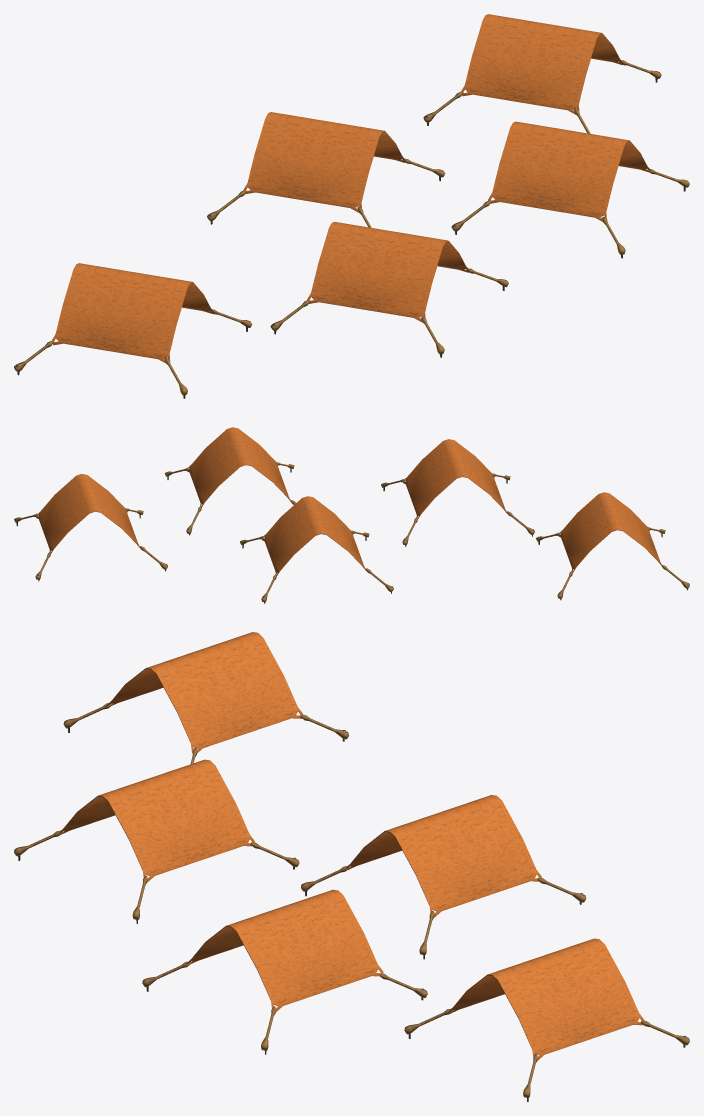
File: Tarps_Orange.obj
3 renders of one model, top to bottom at view 1: azimuth 30°, elevation 25°; view 2: azimuth 150°, elevation 25°; view 3: azimuth 270°, elevation 25°, orthographic. The views are drawn at different scales.
Visible parts, largest first — view 1: Tarp_Tan.002_Material.208, Tarp_Tan.003_Material.208, Tarp_Tan_Material.208, Tarp_Tan.001_Material.208, Tarp_Tan.004_Material.208, Tent_Stakes.002_Material.148, Tent_Stakes.003_Material.148, Tent_Stakes.004_Material.148; view 2: Tarp_Tan.002_Material.208, Tarp_Tan.004_Material.208, Tarp_Tan.001_Material.208, Tarp_Tan.003_Material.208, Tarp_Tan_Material.208, Tent_Stakes_Material.148, Tent_Stakes.004_Material.148, Tent_Stakes.001_Material.148, Tent_Stakes.003_Material.148; view 3: Tarp_Tan.002_Material.208, Tarp_Tan.001_Material.208, Tarp_Tan_Material.208, Tarp_Tan.003_Material.208, Tarp_Tan.004_Material.208, Tent_Stakes.001_Material.148, Tent_Stakes.002_Material.148, Tent_Stakes_Material.148, Tent_Stakes.003_Material.148.
Part boxes in pixels (x1=…): Tarp_Tan.002_Material.208: x1=488, y1=121, x2=651, y2=221; Tarp_Tan.003_Material.208: x1=307, y1=221, x2=469, y2=322; Tarp_Tan_Material.208: x1=461, y1=14, x2=624, y2=114; Tarp_Tan.001_Material.208: x1=243, y1=112, x2=406, y2=212; Tarp_Tan.004_Material.208: x1=52, y1=263, x2=214, y2=362; Tent_Stakes.002_Material.148: x1=451, y1=169, x2=689, y2=258; Tent_Stakes.003_Material.148: x1=270, y1=268, x2=508, y2=357; Tent_Stakes.004_Material.148: x1=14, y1=309, x2=252, y2=398; Tarp_Tan.002_Material.208: x1=187, y1=427, x2=291, y2=507; Tarp_Tan.004_Material.208: x1=558, y1=492, x2=662, y2=572; Tarp_Tan.001_Material.208: x1=262, y1=496, x2=366, y2=576; Tarp_Tan.003_Material.208: x1=403, y1=439, x2=507, y2=519; Tarp_Tan_Material.208: x1=36, y1=474, x2=140, y2=553; Tent_Stakes_Material.148: x1=14, y1=508, x2=167, y2=581; Tent_Stakes.004_Material.148: x1=536, y1=527, x2=689, y2=600; Tent_Stakes.001_Material.148: x1=240, y1=530, x2=393, y2=603; Tent_Stakes.003_Material.148: x1=381, y1=473, x2=534, y2=546; Tarp_Tan.002_Material.208: x1=186, y1=889, x2=383, y2=1011; Tarp_Tan.001_Material.208: x1=344, y1=795, x2=541, y2=917; Tarp_Tan_Material.208: x1=447, y1=938, x2=644, y2=1060; Tarp_Tan.003_Material.208: x1=58, y1=759, x2=255, y2=882; Tarp_Tan.004_Material.208: x1=106, y1=632, x2=303, y2=753; Tent_Stakes.001_Material.148: x1=301, y1=866, x2=586, y2=959; Tent_Stakes.002_Material.148: x1=142, y1=961, x2=427, y2=1054; Tent_Stakes_Material.148: x1=404, y1=1008, x2=689, y2=1101; Tent_Stakes.003_Material.148: x1=14, y1=830, x2=299, y2=923.
Bounding box in the file's own units: 14.81 × 1.42 × 9.89.
